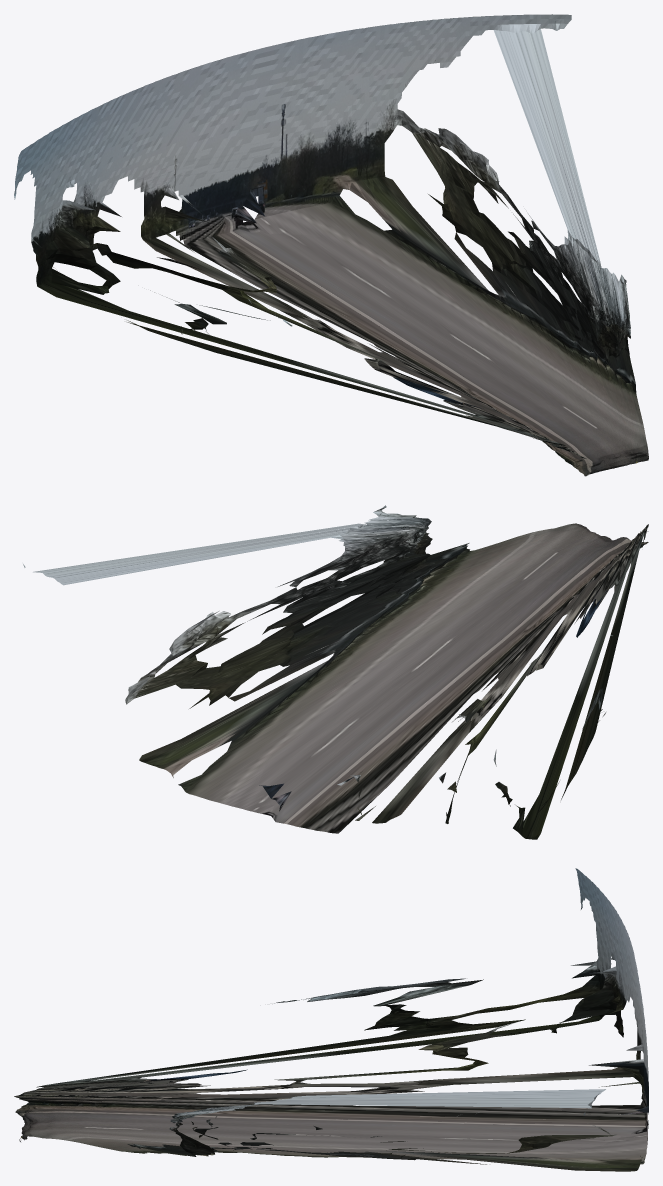
The picture shows the model from 3 angles, top to bottom: view 1: azimuth 30°, elevation 25°; view 2: azimuth 150°, elevation 25°; view 3: azimuth 270°, elevation 25°; orthographic projection. The views are drawn at different scales.
Parts seen in each view (by area): view 1: defaultobject; view 2: defaultobject; view 3: defaultobject.
Boxes of the visible parts, left/top/right/bottom form: defaultobject: left=14, top=14, right=648, bottom=476; defaultobject: left=23, top=505, right=648, bottom=839; defaultobject: left=14, top=868, right=648, bottom=1171.
Size of the model in its own units: 40.11 by 12.47 by 44.69.
Materials: 1 (1 with a texture image).
